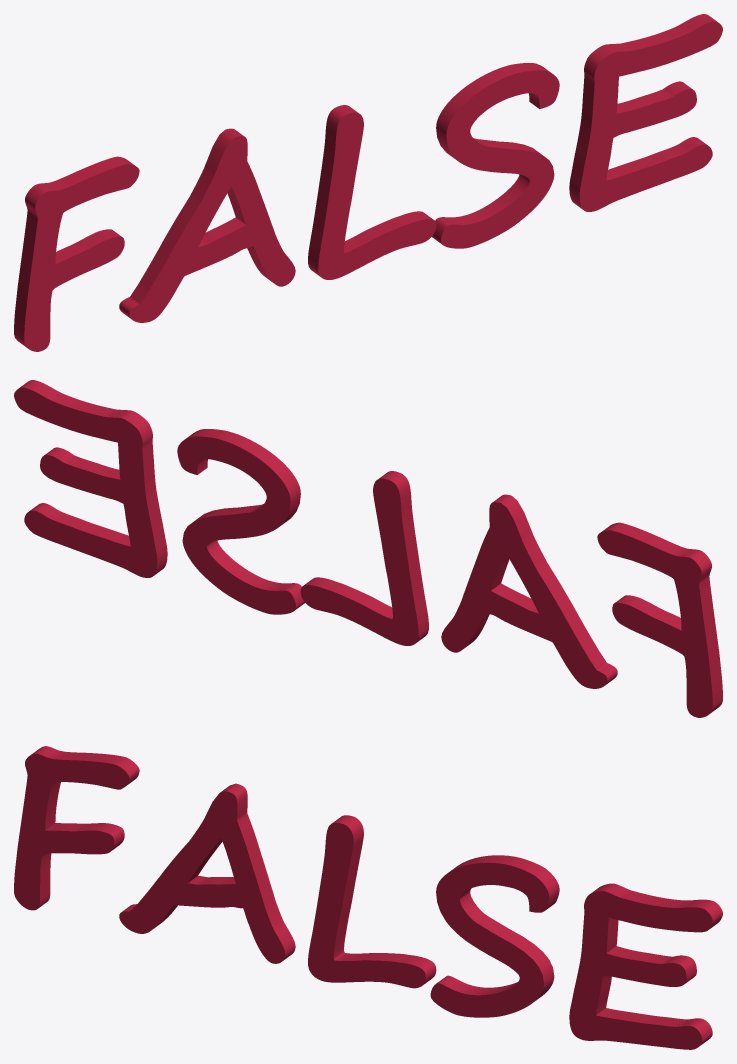
The model's file is false.fbx.
3 renders of one model, top to bottom at view 1: azimuth 30°, elevation 25°; view 2: azimuth 150°, elevation 25°; view 3: azimuth 330°, elevation 25°, orthographic.
Visible parts, largest first — view 1: node_id219; view 2: node_id219; view 3: node_id219.
Boxes of the visible parts, bbox=[...] form: node_id219: bbox=[14, 14, 722, 351]; node_id219: bbox=[14, 380, 722, 717]; node_id219: bbox=[14, 746, 722, 1049].
Bounding box in the file's own units: 0.7353 × 0.1685 × 0.0188.
Materials: 1 (1 with a texture image).
